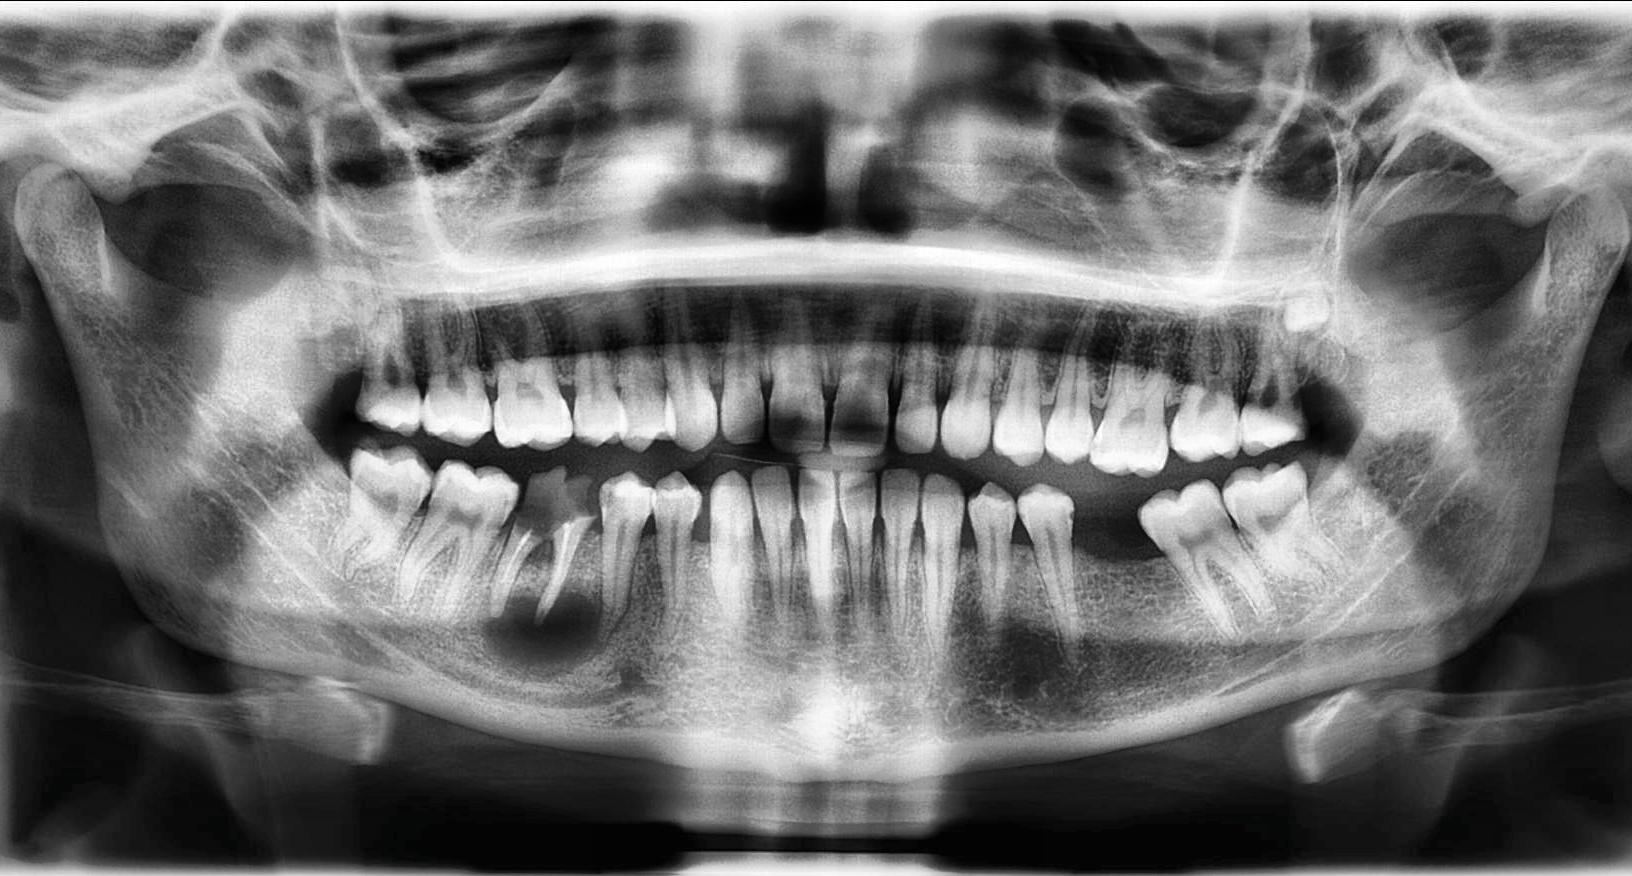radicular: (478, 586, 618, 686)
